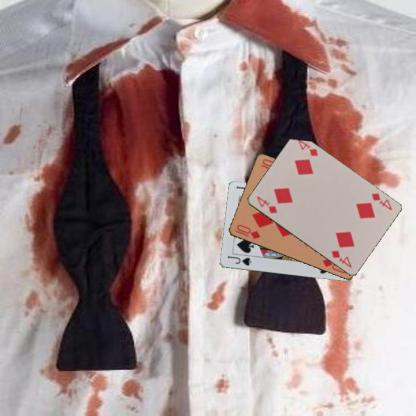10d: (232, 222, 261, 240)
4d: (254, 193, 278, 215), (369, 190, 393, 212)
Js: (225, 253, 252, 267)
